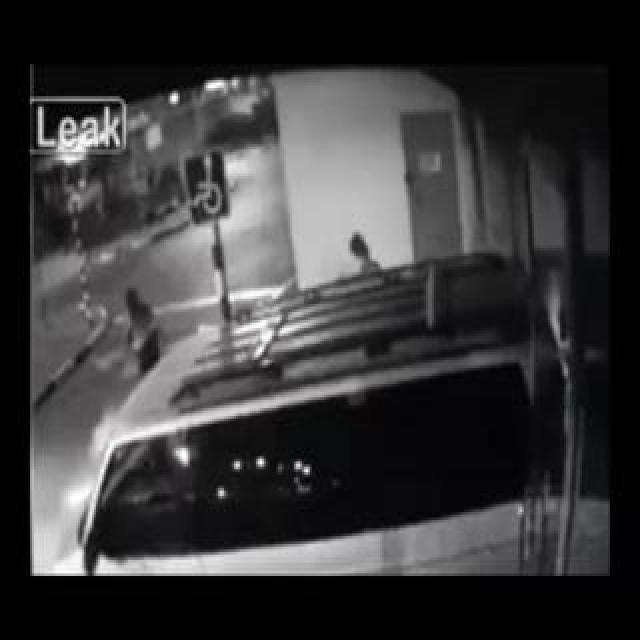burglary: (454, 188, 626, 538)
